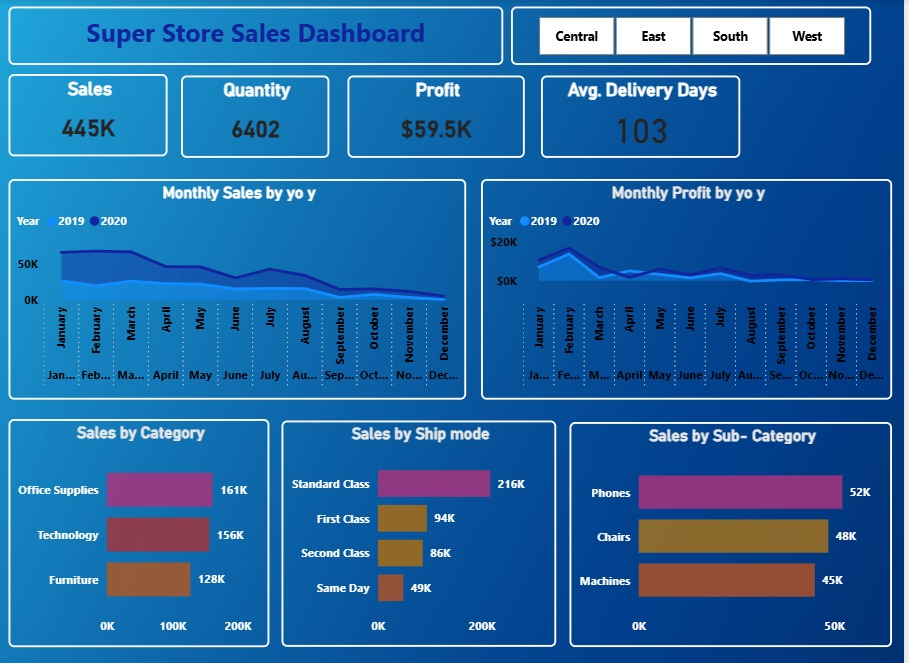

What the dashboard file says about the page in this screenshot:
{"tool":"powerbi","page":{"name":"Page 1","canvas":[960,720],"ordinal":0},"visuals":[{"type":"clusteredBarChart","title":" Sales by Category","fields":{"Category":["SuperStore_Sales_Dataset 2.Category"],"Y":["Sum(SuperStore_Sales_Dataset 2.Sales)"]},"box":[11.1,445.4,276.8,241.8],"z":0},{"type":"clusteredBarChart","title":" Sales by Sub- Category","fields":{"Y":["Sum(SuperStore_Sales_Dataset 2.Sales)"],"Category":["SuperStore_Sales_Dataset 2.Sub-Category"]},"box":[606,448.6,342,238.6],"z":1000},{"type":"clusteredBarChart","title":" Sales by Ship mode","fields":{"Y":["Sum(SuperStore_Sales_Dataset 2.Sales)","Sum(SuperStore_Sales_Dataset 2.Sales)"],"Category":["SuperStore_Sales_Dataset 2.Ship Mode"]},"box":[300.6,447,291.1,240.2],"z":2000},{"type":"stackedAreaChart","title":" Monthly Sales by yo y","fields":{"Category":["SuperStore_Sales_Dataset 2.Order Date.Variation.Date Hierarchy.Month","SuperStore_Sales_Dataset 2.Order Date.Variation.Date Hierarchy.Day","SuperStore_Sales_Dataset 2.Order Date.Variation.Date Hierarchy.Year","SuperStore_Sales_Dataset 2.Order Date.Variation.Date Hierarchy.Quarter","SuperStore_Sales_Dataset 2.Order Date.Variation.Date Hierarchy.Month","SuperStore_Sales_Dataset 2.Order Date.Variation.Date Hierarchy.Day"],"Y":["Sum(SuperStore_Sales_Dataset 2.Sales)"],"Series":["SuperStore_Sales_Dataset 2.Order Date.Variation.Date Hierarchy.Year"]},"box":[11.1,190.9,485.1,233.8],"z":3000},{"type":"stackedAreaChart","title":" Monthly Profit by yo y","fields":{"Category":["SuperStore_Sales_Dataset 2.Order Date.Variation.Date Hierarchy.Month","SuperStore_Sales_Dataset 2.Order Date.Variation.Date Hierarchy.Day","SuperStore_Sales_Dataset 2.Order Date.Variation.Date Hierarchy.Year","SuperStore_Sales_Dataset 2.Order Date.Variation.Date Hierarchy.Quarter","SuperStore_Sales_Dataset 2.Order Date.Variation.Date Hierarchy.Month","SuperStore_Sales_Dataset 2.Order Date.Variation.Date Hierarchy.Day"],"Y":["Sum(SuperStore_Sales_Dataset 2.Profit)"],"Series":["SuperStore_Sales_Dataset 2.Order Date.Variation.Date Hierarchy.Year"]},"box":[512.2,190.9,435.8,233.8],"z":4000},{"type":"textbox","box":[11.1,8,524.9,62],"z":8000},{"type":"slicer","fields":{"Values":["SuperStore_Sales_Dataset 2.Region"]},"box":[544,8,381.7,62],"z":9000},{"type":"card","title":"Sales","fields":{"Values":["Sum(SuperStore_Sales_Dataset 2.Sales)"]},"box":[11.1,79.5,168.6,87.5],"z":10000},{"type":"card","title":"Quantity","fields":{"Values":["Sum(SuperStore_Sales_Dataset 2.Quantity)"]},"box":[194.1,81.1,157.5,87.5],"z":11000},{"type":"card","title":"Profit","fields":{"Values":["Sum(SuperStore_Sales_Dataset 2.Profit)"]},"box":[370.6,81.1,187.7,87.5],"z":12000},{"type":"card","title":"Avg. Delivery Days","fields":{"Values":["Avg(SuperStore_Sales_Dataset 2.AvgDelivery)"]},"box":[575.8,81.1,200.4,87.5],"z":13000}]}

Visuals, with their boxes in screenshot pixels (x1, y1, x2, y2), scaled from the page's 960x720 canvas onto the 909x663 screenshot:
" Sales by Category" clusteredBarChart: <region>11, 410, 273, 633</region>
" Sales by Sub- Category" clusteredBarChart: <region>574, 413, 898, 633</region>
" Sales by Ship mode" clusteredBarChart: <region>285, 412, 560, 633</region>
" Monthly Sales by yo y" stackedAreaChart: <region>11, 176, 470, 391</region>
" Monthly Profit by yo y" stackedAreaChart: <region>485, 176, 898, 391</region>
textbox: <region>11, 7, 508, 64</region>
slicer - SuperStore_Sales_Dataset 2.Region: <region>515, 7, 877, 64</region>
"Sales" card: <region>11, 73, 170, 154</region>
"Quantity" card: <region>184, 75, 333, 155</region>
"Profit" card: <region>351, 75, 529, 155</region>
"Avg. Delivery Days" card: <region>545, 75, 735, 155</region>
